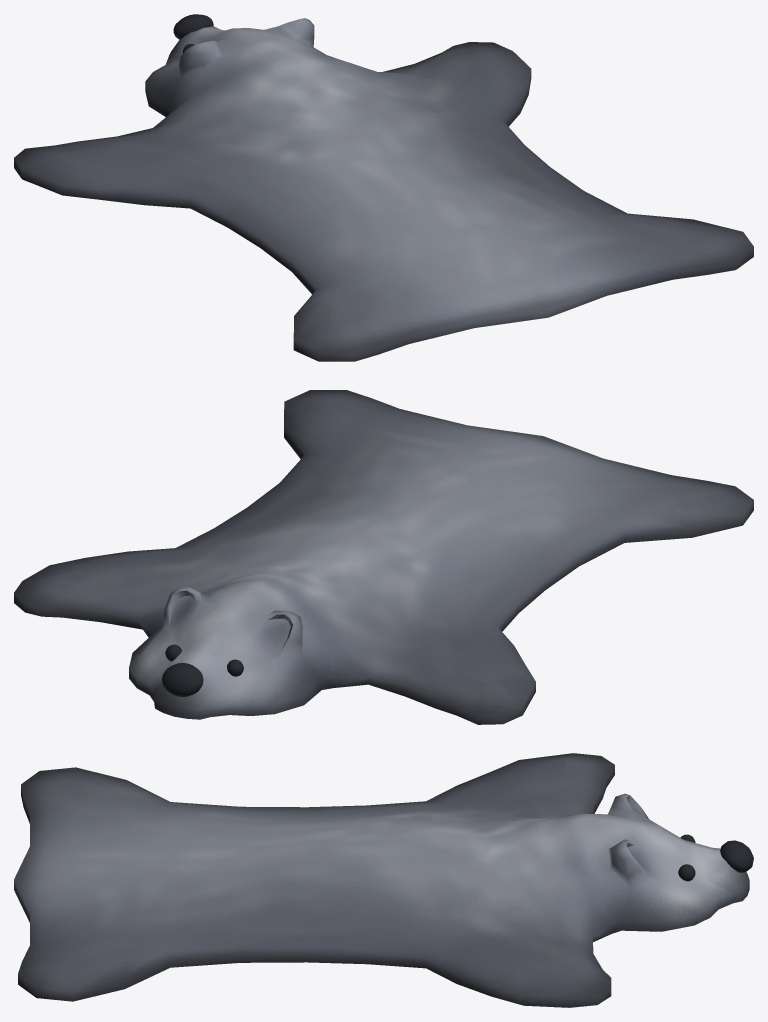
File: Onion_Rug.fbx
3 views of the same model, one above another, from view 1: azimuth 30°, elevation 25°; view 2: azimuth 150°, elevation 25°; view 3: azimuth 270°, elevation 25° (orthographic). The views are drawn at different scales.
Visible parts, largest first — view 1: Onion_Rug; view 2: Onion_Rug; view 3: Onion_Rug.
Part boxes in pixels (x1,y1,x2,y2): Onion_Rug: (14,14,753,361); Onion_Rug: (14,390,753,724); Onion_Rug: (14,753,753,1007).
Bounding box in the file's own units: 2.23 × 0.3047 × 2.86.
1 material, 1 textured.
